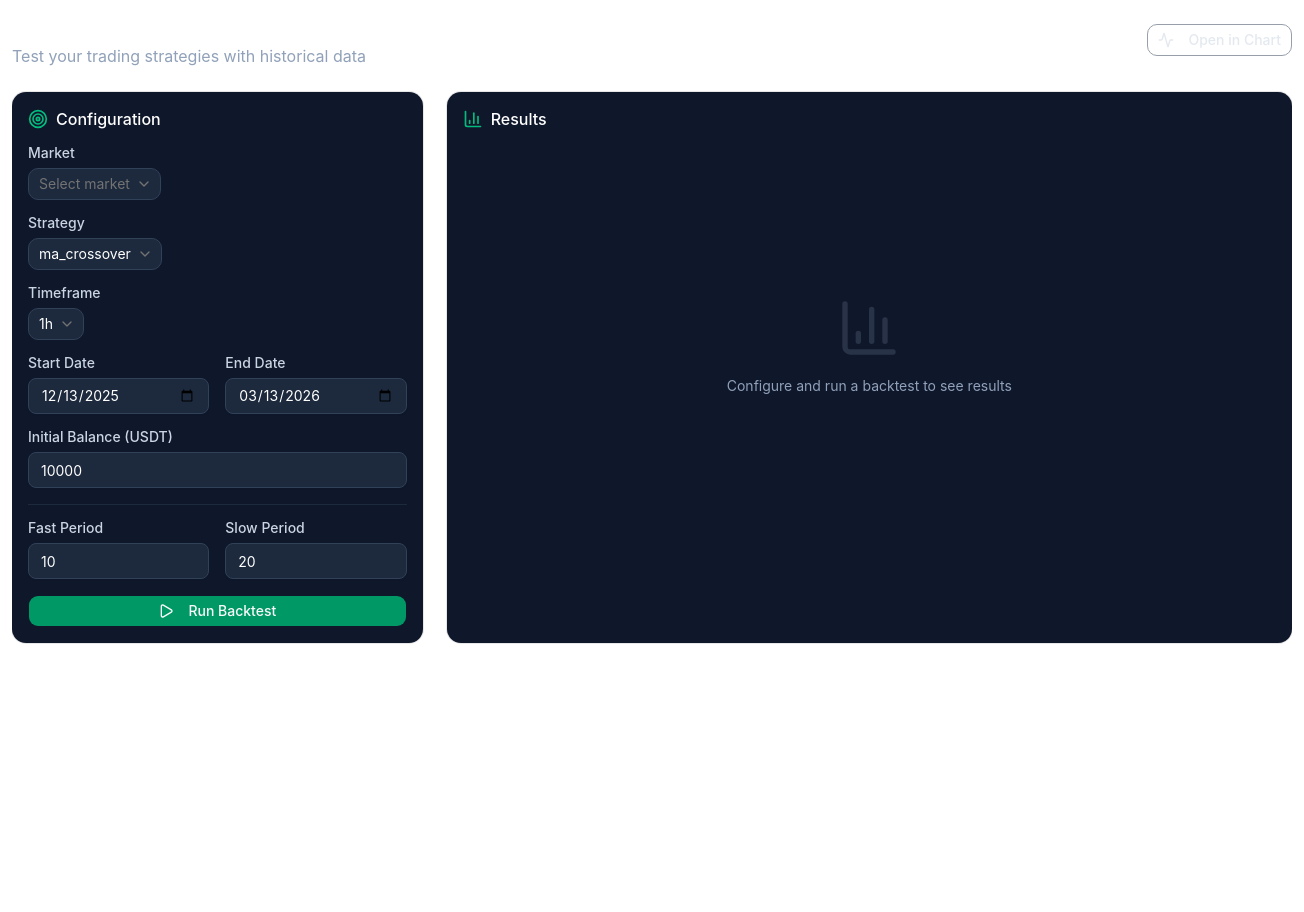
Test case: BacktestPage › loads markets and renders results after a successful run
Click the text "Select market".
click(84, 184)  # box [39,174,130,194]
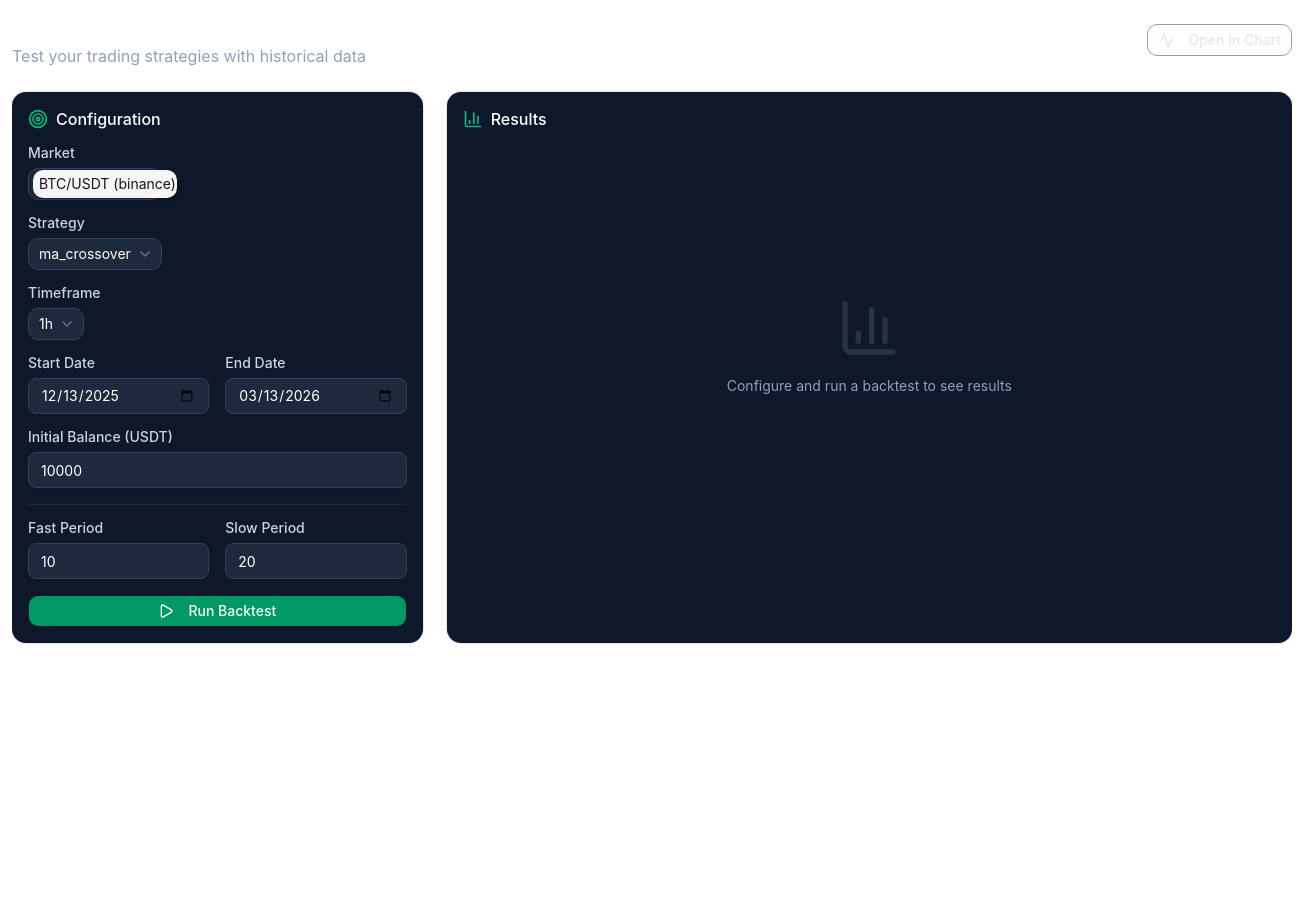
Click the option "BTC/USDT (binance)".
click(105, 184)  # box [33,170,177,198]
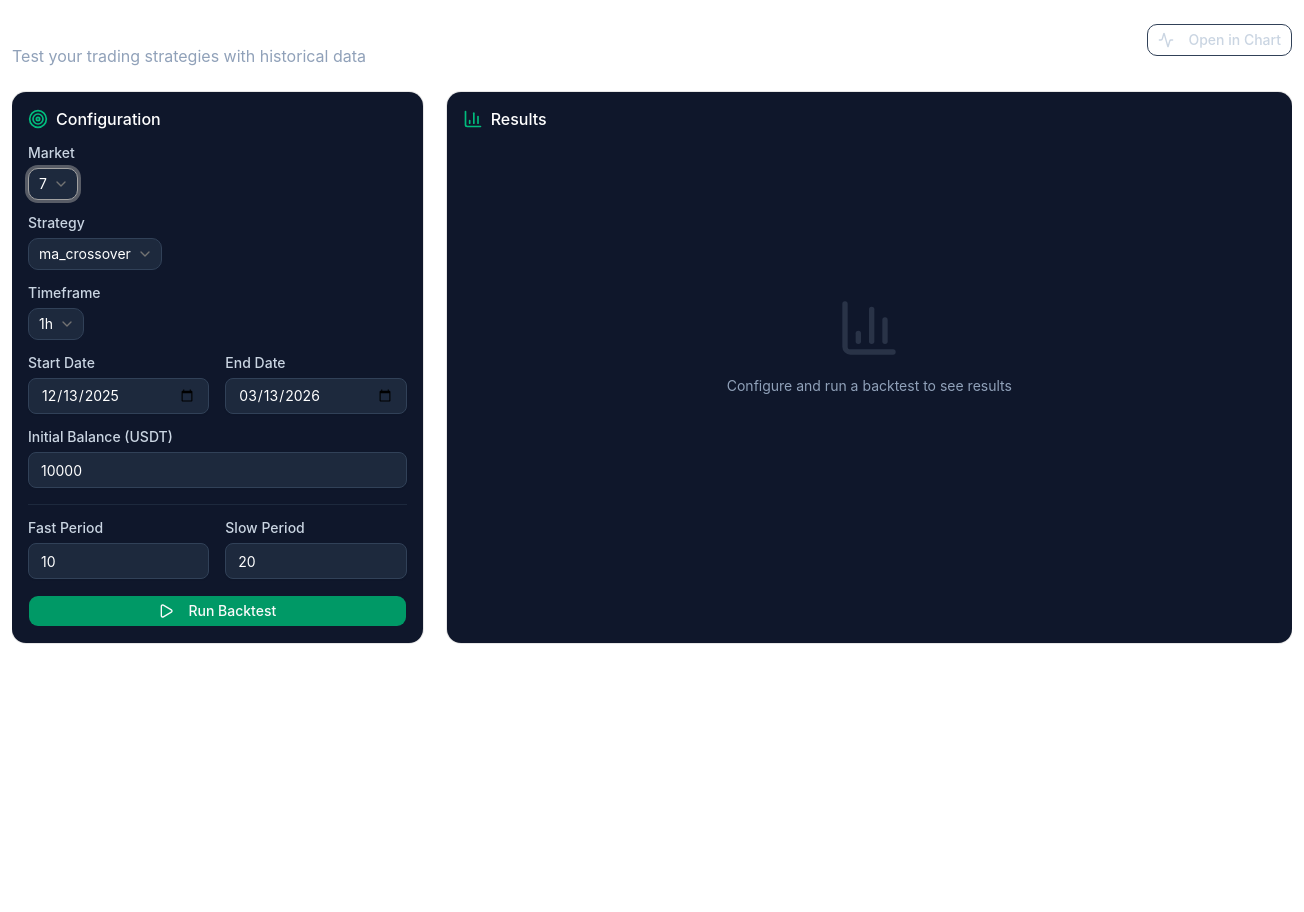
Click the button "Run Backtest".
click(217, 611)  # box [28,595,407,627]
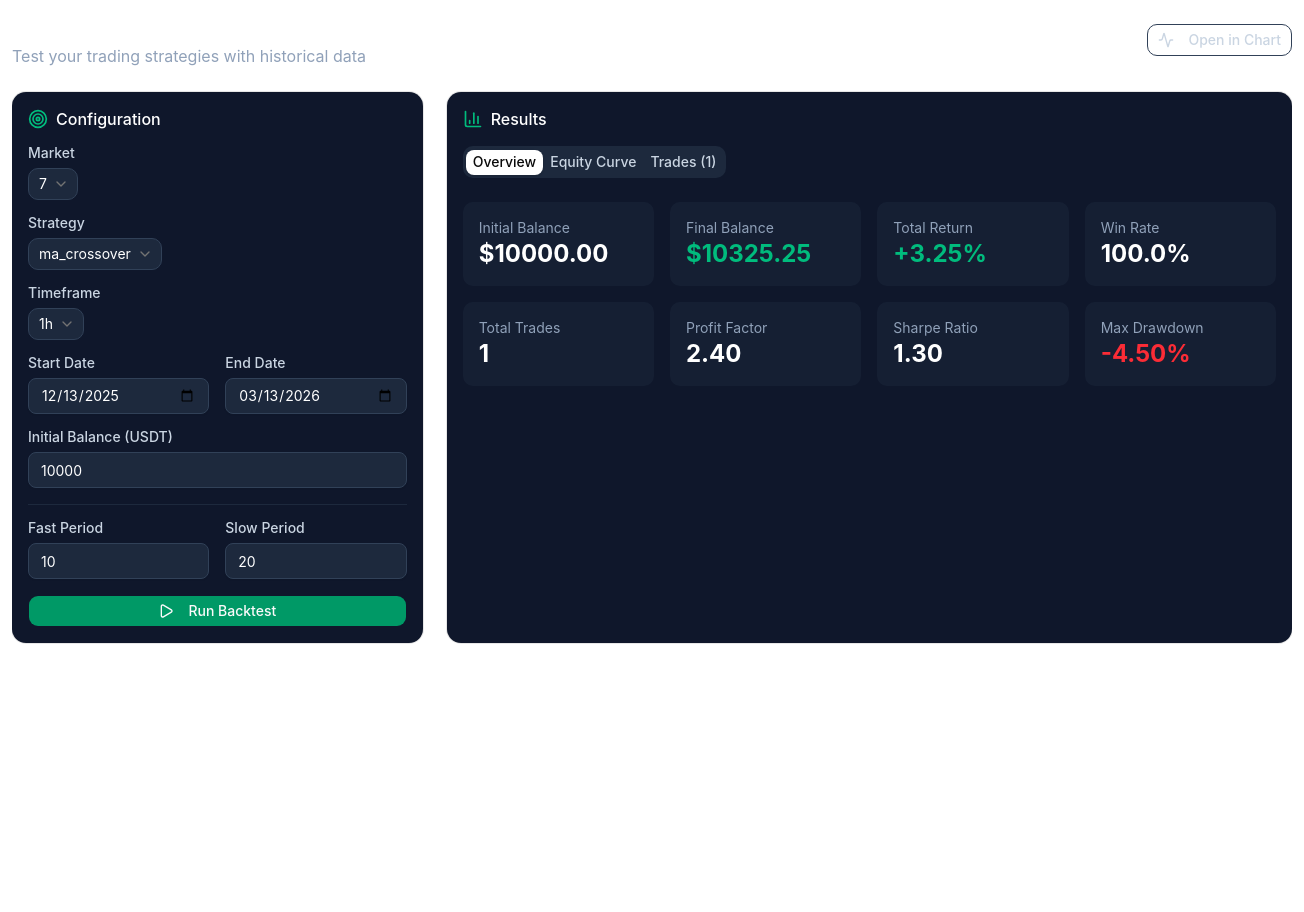
expect the text "$10325.25" is shown: met, box [686,239,811,268]
expect the tab "Trades (1)" is shown: met, box [643,150,723,174]
expect the text "+3.25%" is shown: met, box [893,239,987,268]
